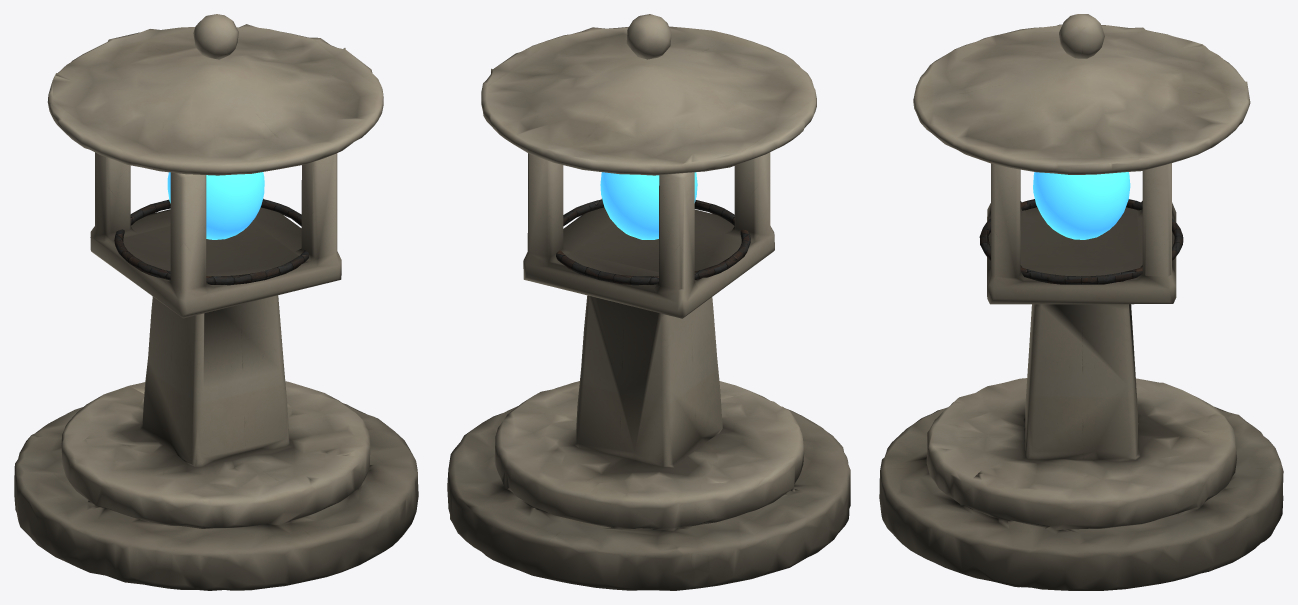
Rendered from lantern.glb.
3 views of the same model, side by side, from view 1: azimuth 30°, elevation 25°; view 2: azimuth 150°, elevation 25°; view 3: azimuth 270°, elevation 25° (orthographic).
Parts seen in each view (by area): view 1: lantern_stone, lantern_accent, lantern_ironstone; view 2: lantern_stone, lantern_accent, lantern_ironstone; view 3: lantern_stone, lantern_accent, lantern_ironstone.
Boxes of the visible parts, x1,y1,x2,y2 form: lantern_stone: (14,14,418,590); lantern_accent: (167,172,264,239); lantern_ironstone: (114,199,308,285); lantern_stone: (447,14,850,590); lantern_accent: (600,172,697,239); lantern_ironstone: (556,199,750,285); lantern_stone: (879,14,1283,590); lantern_accent: (1033,172,1130,239); lantern_ironstone: (979,199,1183,284).
Size of the model in its own units: 2.99 by 4.03 by 2.99.
3 materials, 2 textured.
